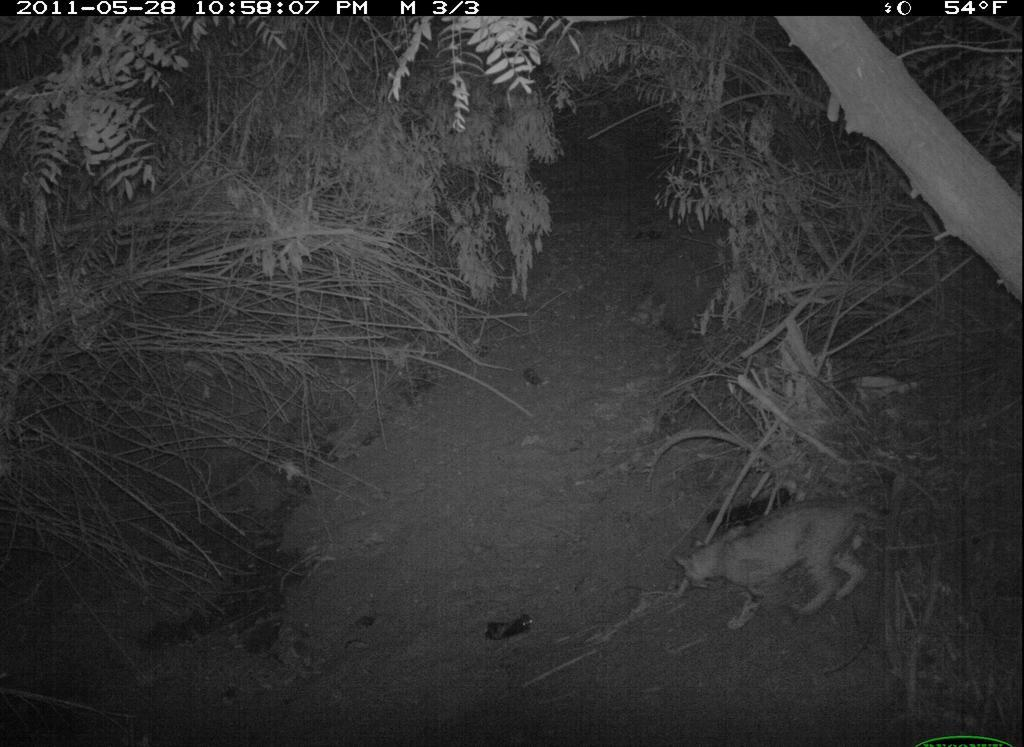bobcat: (665, 489, 903, 643)
